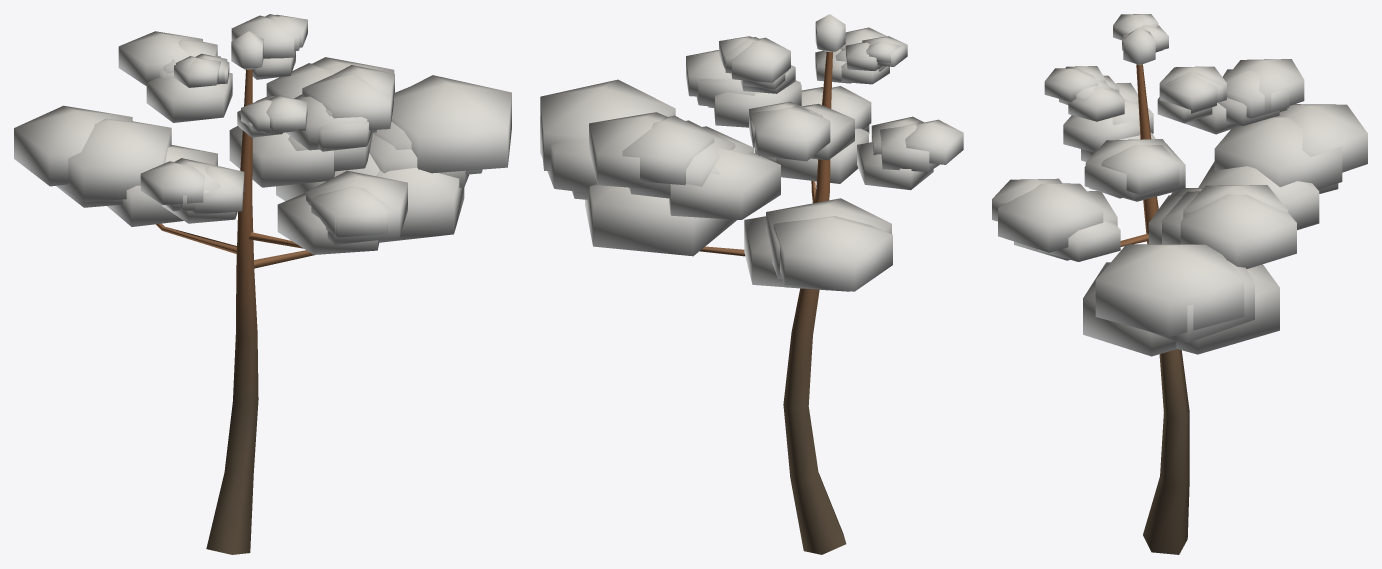
The picture shows the model from 3 angles, left to right: view 1: azimuth 30°, elevation 25°; view 2: azimuth 150°, elevation 25°; view 3: azimuth 270°, elevation 25°; orthographic projection.
Visible parts, largest first — view 1: crown, trunk; view 2: crown, trunk; view 3: crown, trunk.
Boxes of the visible parts, <box> form: crown: <box>14,14,511,254</box>; trunk: <box>156,69,314,554</box>; crown: <box>540,14,963,291</box>; trunk: <box>700,51,846,554</box>; crown: <box>992,14,1367,356</box>; trunk: <box>1120,64,1189,554</box>.
Size of the model in its own units: 12.98 by 16.08 by 10.44.
